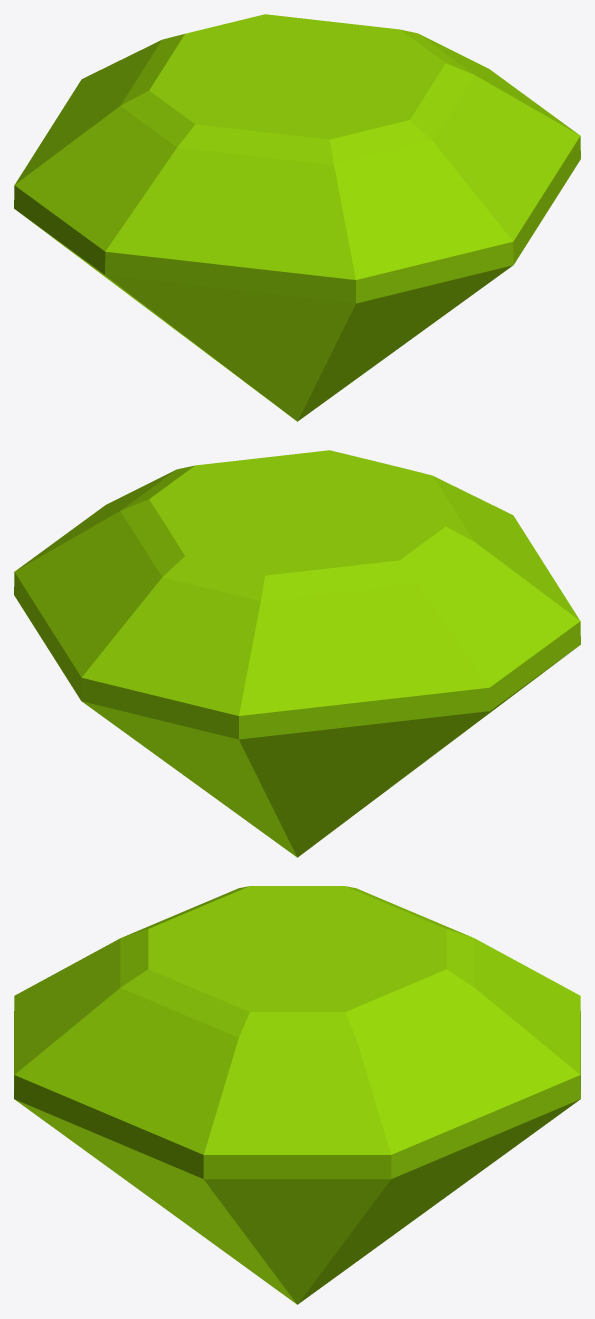
File: gem.glb
The picture shows the model from 3 angles, top to bottom: view 1: azimuth 30°, elevation 25°; view 2: azimuth 150°, elevation 25°; view 3: azimuth 270°, elevation 25°; orthographic projection. The views are drawn at different scales.
Visible parts, largest first — view 1: UI_Gem_Green; view 2: UI_Gem_Green; view 3: UI_Gem_Green.
Boxes of the visible parts, box(x1,y1,x2,y2) form: UI_Gem_Green: box(14, 14, 580, 421); UI_Gem_Green: box(14, 450, 580, 857); UI_Gem_Green: box(14, 886, 580, 1304).
Size of the model in its own units: 0.5602 by 0.3878 by 0.5602.
Materials: 1 (1 with a texture image).
